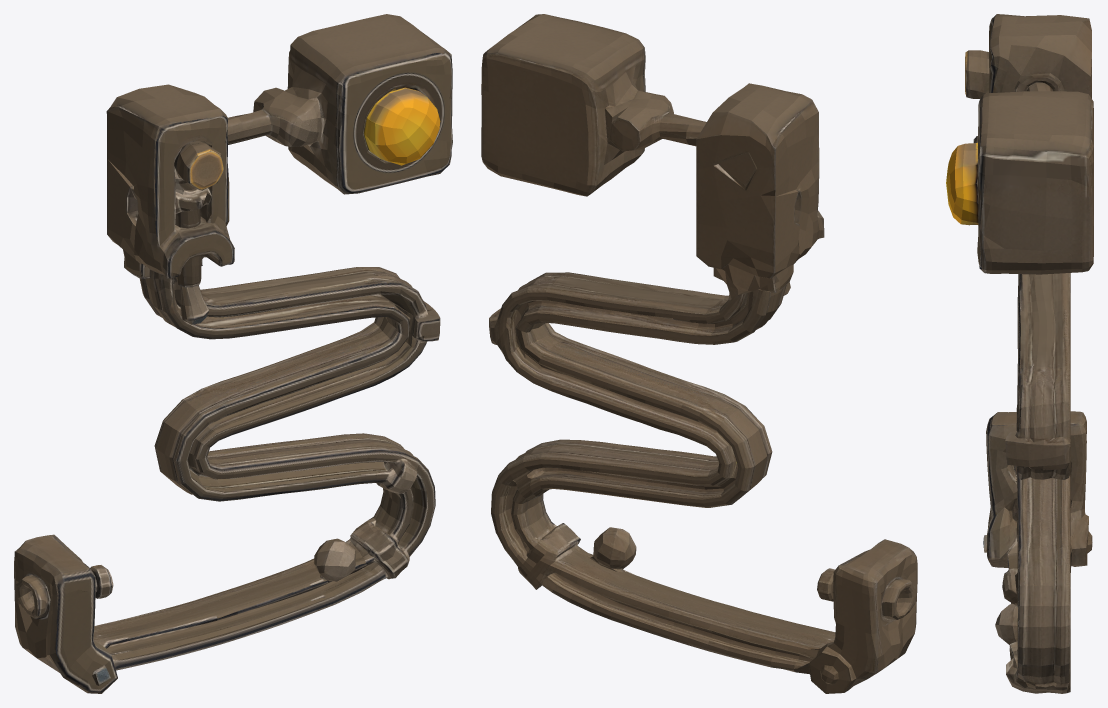
File: D_Capsulas.fbx
3 views of the same model, side by side, from view 1: azimuth 30°, elevation 25°; view 2: azimuth 150°, elevation 25°; view 3: azimuth 270°, elevation 25° (orthographic). The views are drawn at different scales.
Visible parts, largest first — view 1: temp; view 2: temp; view 3: temp.
Boxes of the visible parts, x1,y1,x2,y2 form: temp: (14, 14, 452, 693); temp: (481, 14, 917, 693); temp: (946, 14, 1093, 693).
Size of the model in its own units: 141 by 190 by 42.29.
Materials: 1 (1 with a texture image).
